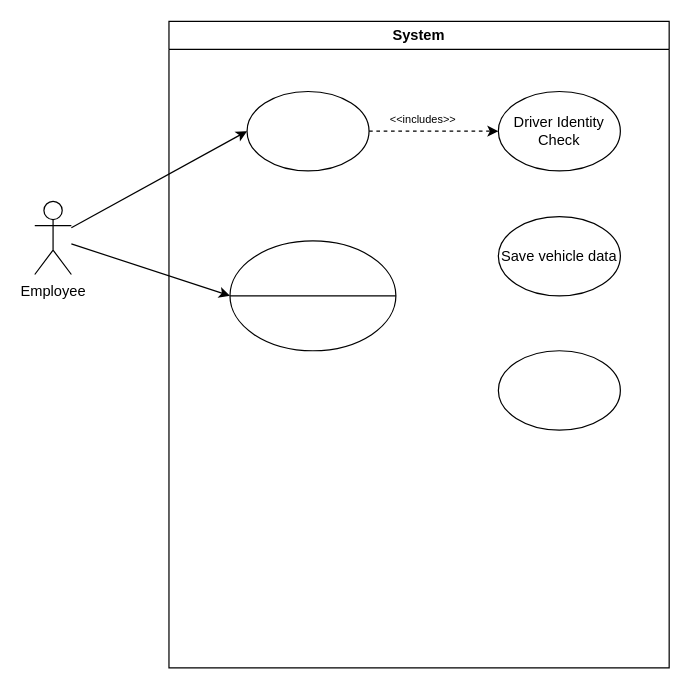
The diagram is 691 pixels wide and 689 high, and some of its shapes have lost their labels. The shapes that lost their labels are listed below. From the top down, each one's centre as x and y in pixels, then its label:
At (307,130): "Display reservation data".
At (312,295): "Vehicle is available Vehicle is not available".
